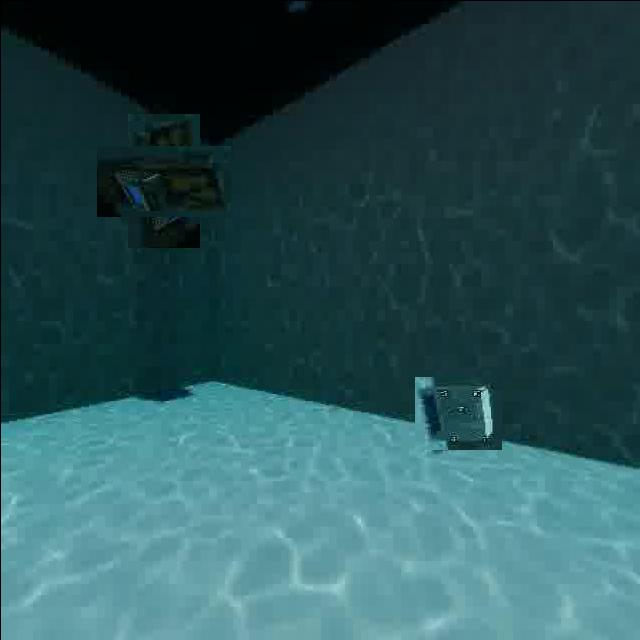Control Panel: (112, 128, 215, 232)
Docking Station: (417, 372, 497, 453)
